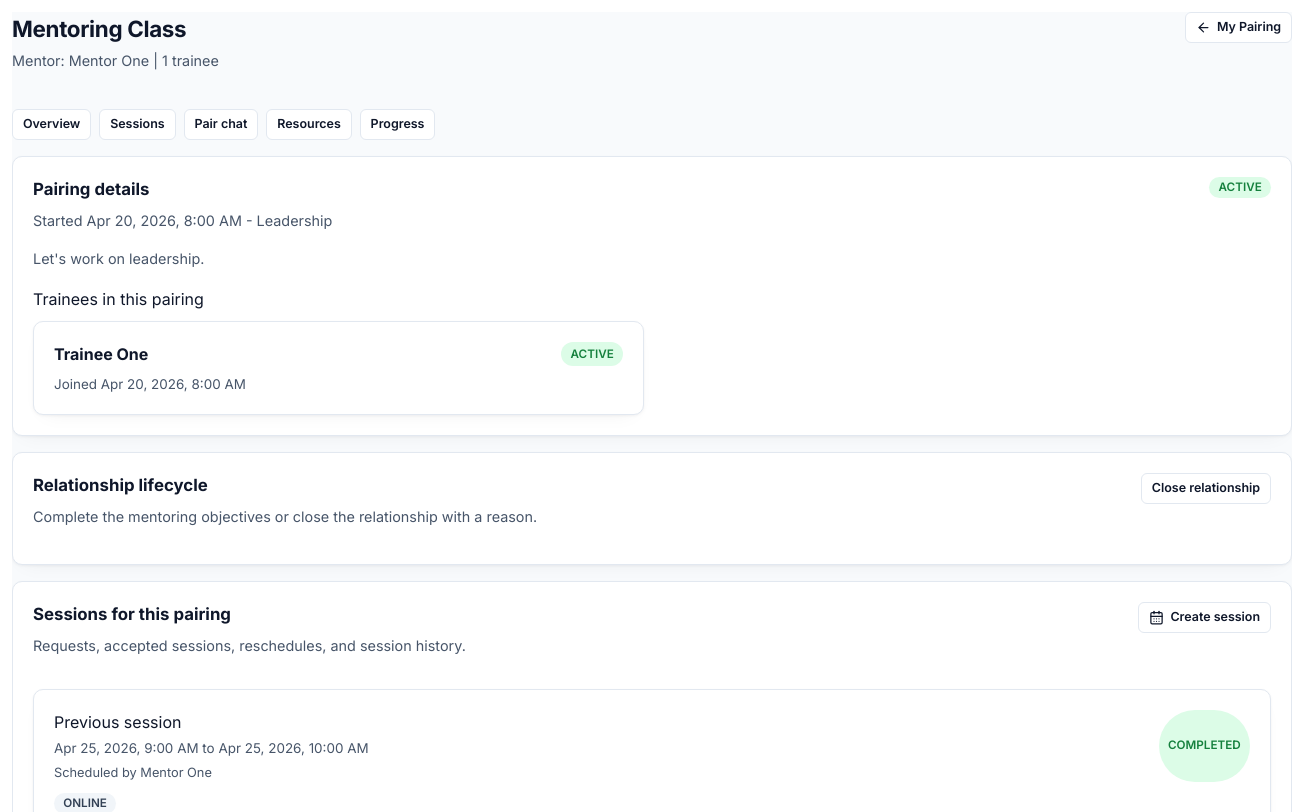
it: MentoringPairingDetailPage › shows progress for the selected pairing and links back to its overview
The width and height of the screenshot is (1292, 812).
Click the tab "Progress": (398, 125) [360,109,435,140]
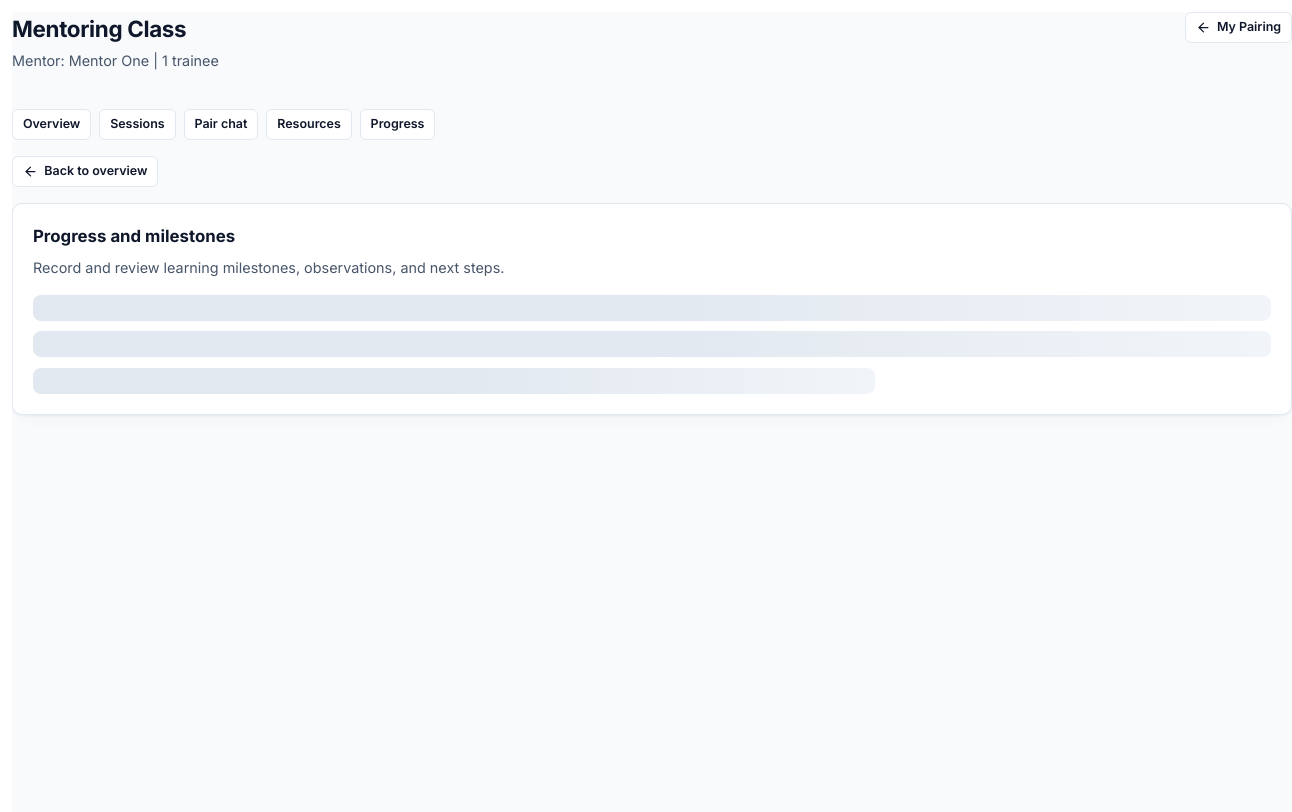
Expected: the heading "Progress and milestones" is shown, [33,226,235,246]
Click the link "Back to overview": (85, 172) [12,156,158,187]
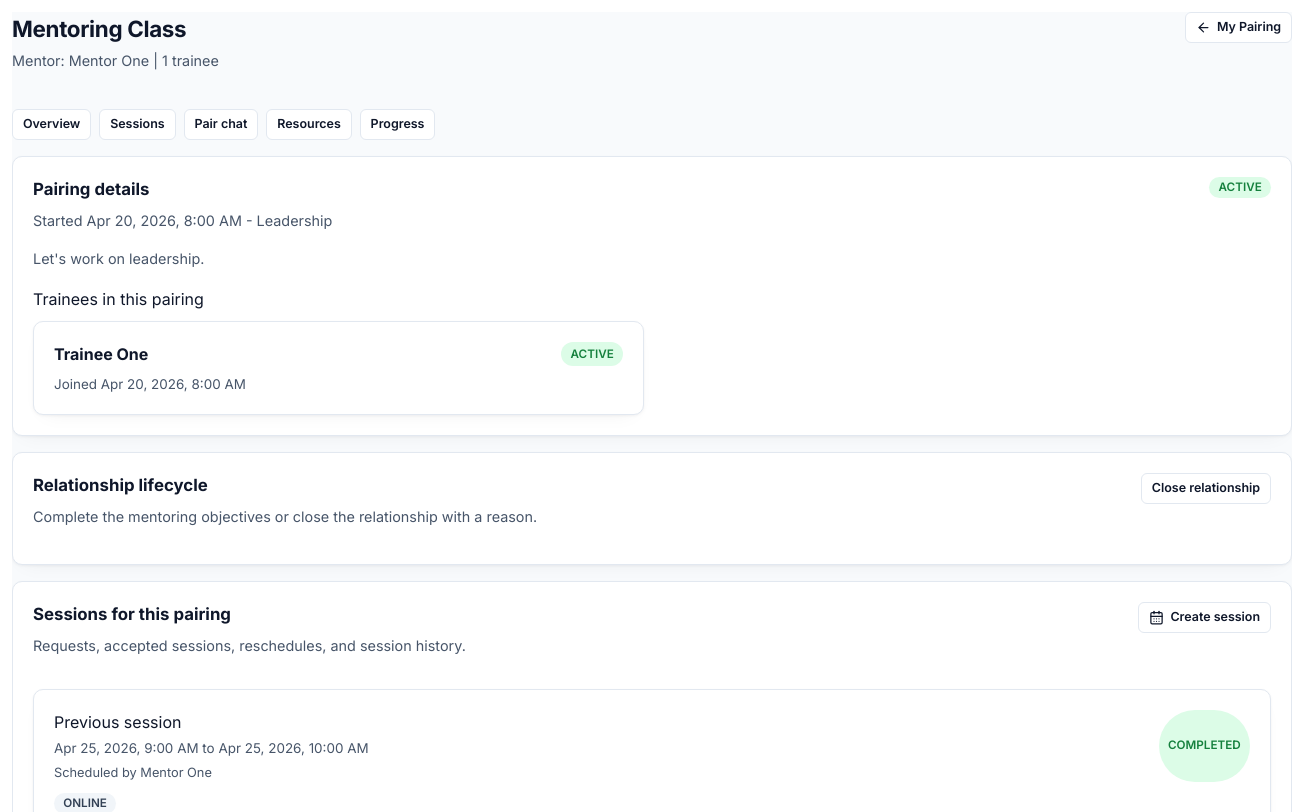
Expected: the heading "Pairing details" is shown, [33,179,150,199]
